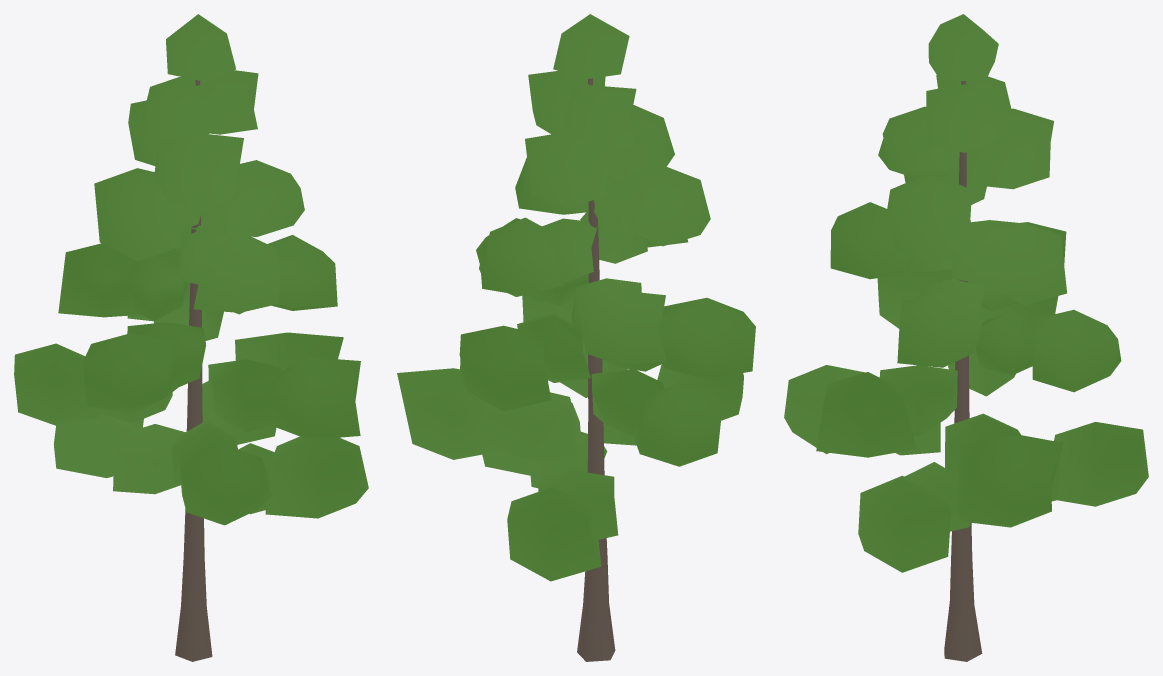
The model's file is Blender_Sweetgum_1_Far.glb.
3 views of the same model, side by side, from view 1: azimuth 30°, elevation 25°; view 2: azimuth 150°, elevation 25°; view 3: azimuth 270°, elevation 25° (orthographic).
Parts seen in each view (by area): view 1: Blender_Sweetgum_1_Far; view 2: Blender_Sweetgum_1_Far; view 3: Blender_Sweetgum_1_Far.
Part boxes in pixels (<box>): Blender_Sweetgum_1_Far: <box>14,14,368,661</box>; Blender_Sweetgum_1_Far: <box>397,14,755,661</box>; Blender_Sweetgum_1_Far: <box>784,14,1148,661</box>.
Bounding box in the file's own units: 12.29 × 22.92 × 11.8.
